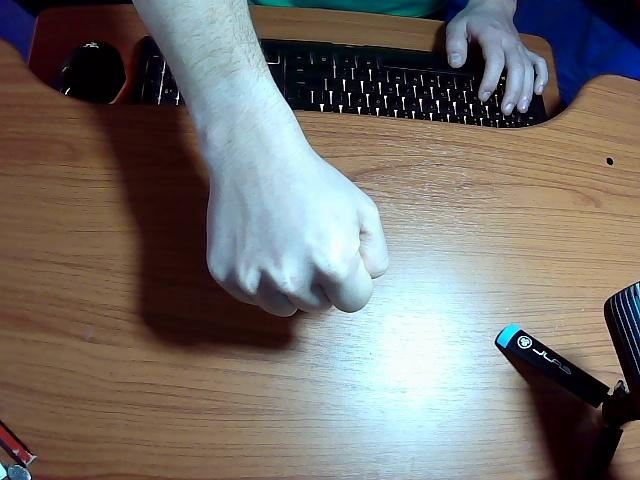rock: (448, 0, 549, 114)
